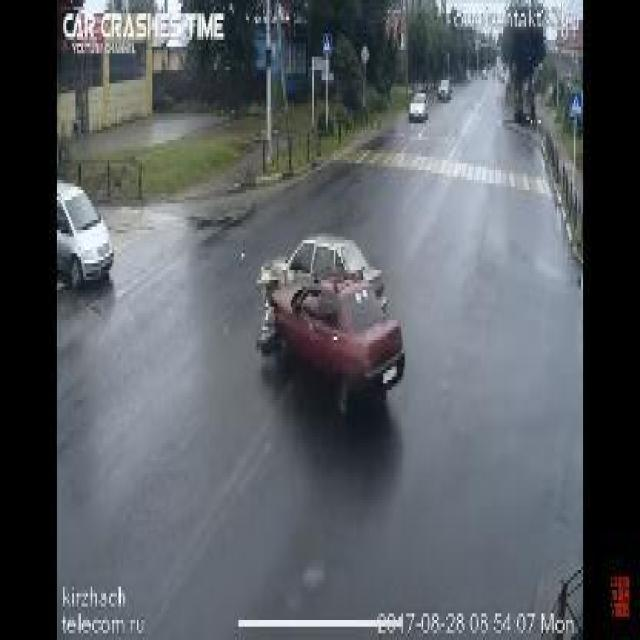accident: (249, 217, 420, 420)
